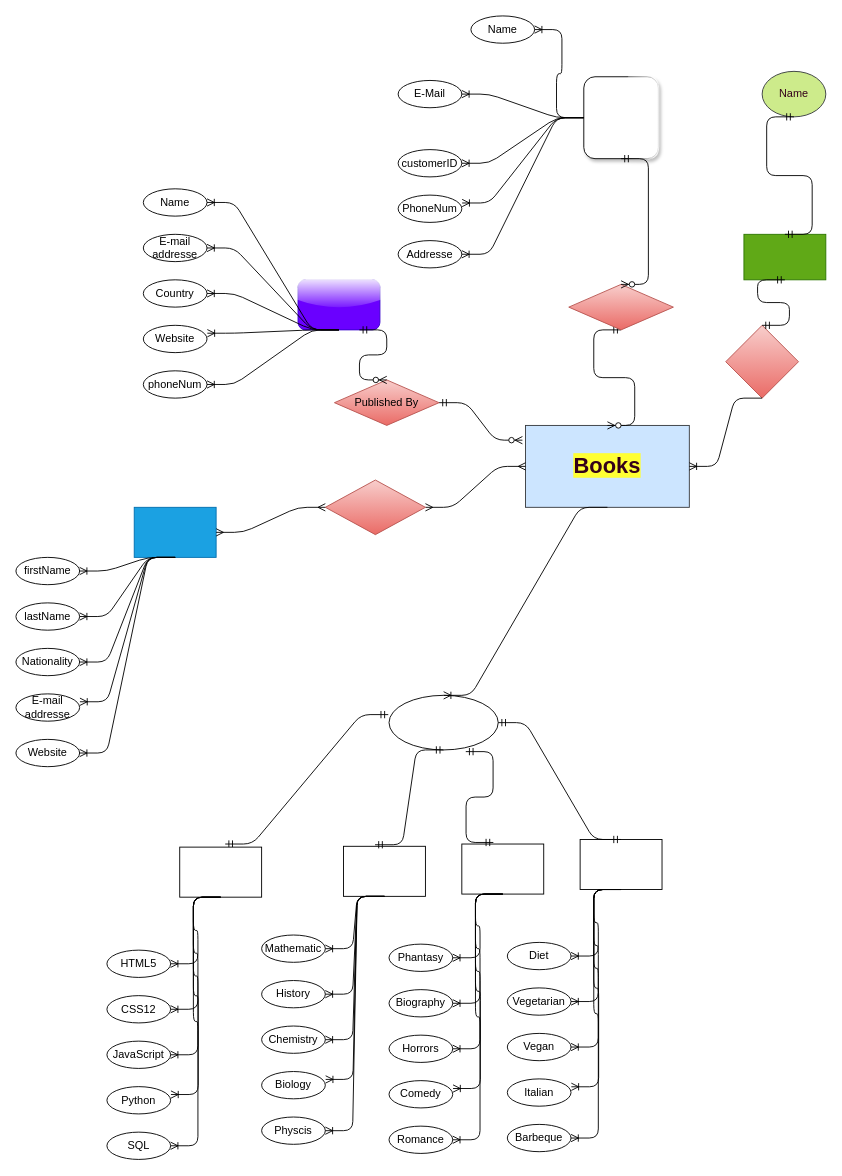
Some shapes in this 842 by 1176 pixel diagram are drawn without their labels. The centre of each missing label's shape, as x and y in pixels:
Add to: point (620, 306)
Author: point (174, 531)
Cooking: point (620, 864)
Customer: point (621, 119)
Gendre: point (443, 722)
Novels: point (502, 868)
Products: point (762, 361)
Programming: point (220, 871)
Publisher: point (338, 304)
School Books: point (384, 870)
Vienna: point (784, 256)
Wrote by: point (374, 507)
